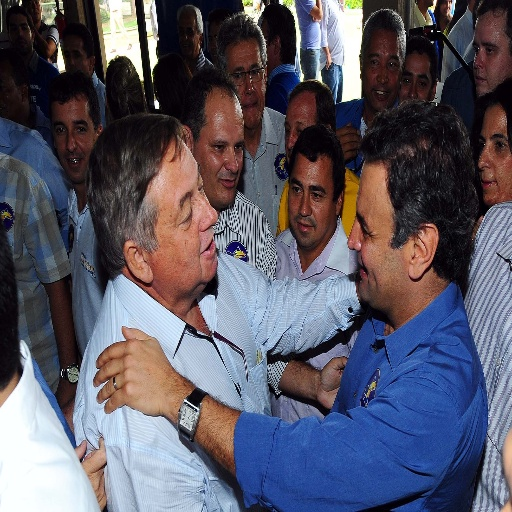hand: (92, 321, 175, 413), (73, 433, 107, 511), (317, 356, 346, 413), (339, 121, 363, 165), (52, 378, 80, 409), (325, 55, 332, 72)
